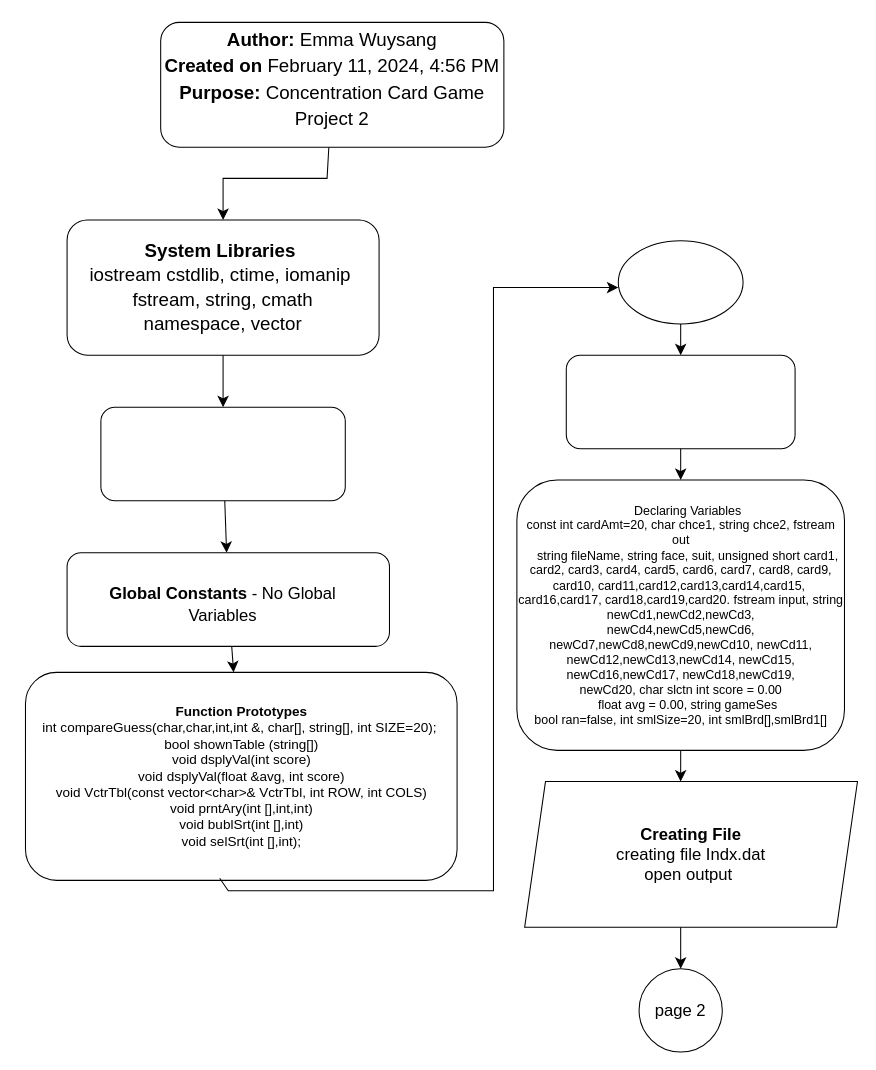
Image size: 876x1070. Some labels were removed from this diagram. The shapes that lost their labels are listed below. From the top down, each one's box as (x1, y1, x2, y2) in pixels, then its label:
(617, 240, 743, 324): main
(565, 354, 795, 449): Random Number Seed srand(static_cast<unsigned int>(time(0)))
(100, 406, 345, 501): User Libraries None
